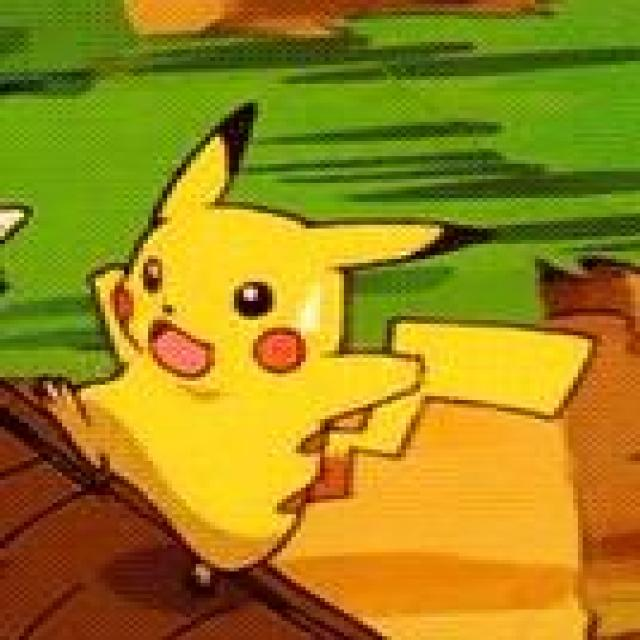pikachu: (35, 104, 593, 583)
